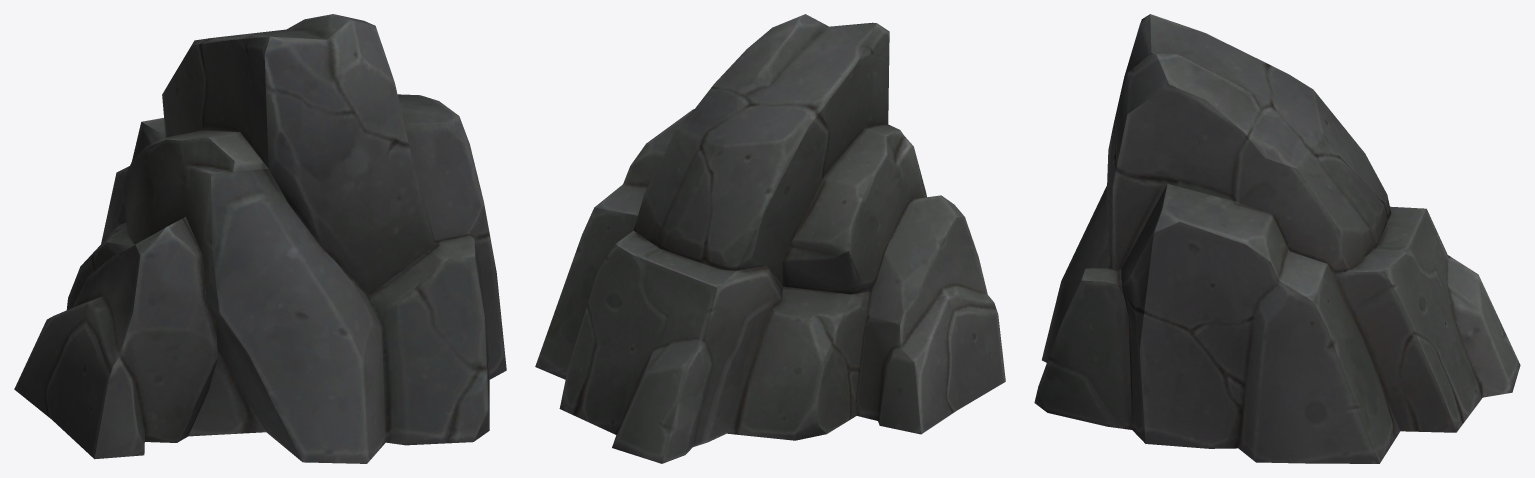
File: Storm_Doodad_KingsCrest_BigChunkyRock_00_Sc2.obj
The picture shows the model from 3 angles, left to right: view 1: azimuth 30°, elevation 25°; view 2: azimuth 150°, elevation 25°; view 3: azimuth 270°, elevation 25°; orthographic projection. The views are drawn at different scales.
Visible parts, largest first — view 1: Mesh_1; view 2: Mesh_1; view 3: Mesh_1.
Part boxes in pixels (x1,y1,x2,y2): Mesh_1: (14, 14, 506, 463); Mesh_1: (535, 14, 1005, 463); Mesh_1: (1034, 14, 1520, 463).
Bounding box in the file's own units: 192 × 160 × 211.
1 material, 1 textured.
